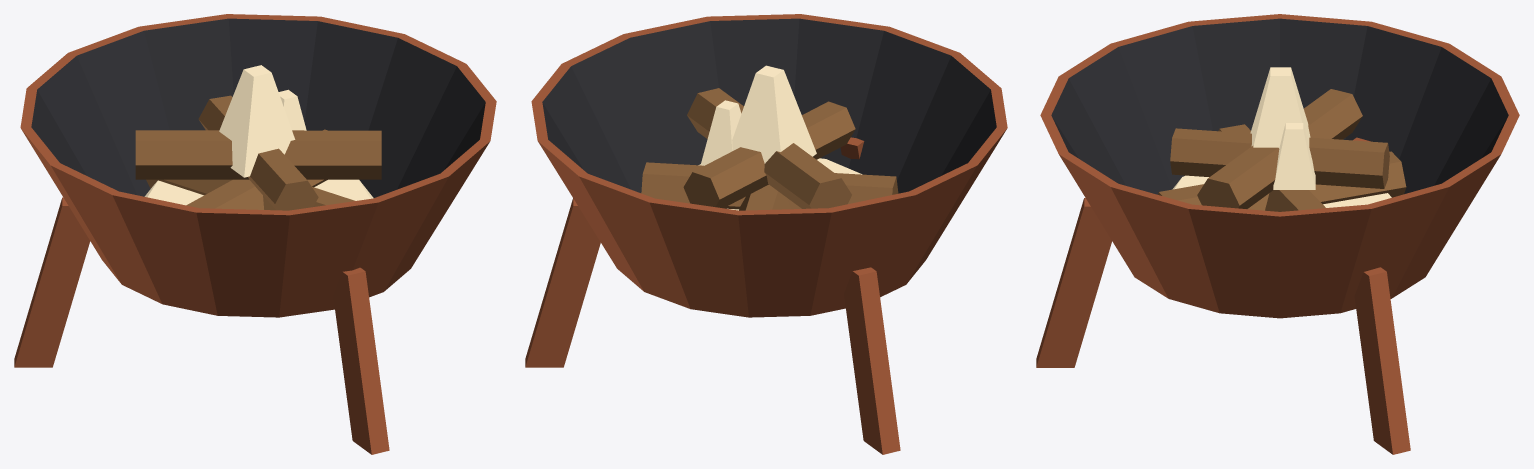
Rendered from FN_Pit_Fire.glb.
The picture shows the model from 3 angles, left to right: view 1: azimuth 30°, elevation 25°; view 2: azimuth 150°, elevation 25°; view 3: azimuth 270°, elevation 25°; orthographic projection.
Visible parts, largest first — view 1: FN_Pit_Fire; view 2: FN_Pit_Fire; view 3: FN_Pit_Fire.
Part boxes in pixels (x1=…): FN_Pit_Fire: x1=14, y1=14, x2=496, y2=454; FN_Pit_Fire: x1=525, y1=14, x2=1007, y2=454; FN_Pit_Fire: x1=1036, y1=14, x2=1519, y2=454.
Bounding box in the file's own units: 0.7 × 0.47 × 0.706.
Materials: 2 (2 with a texture image).
